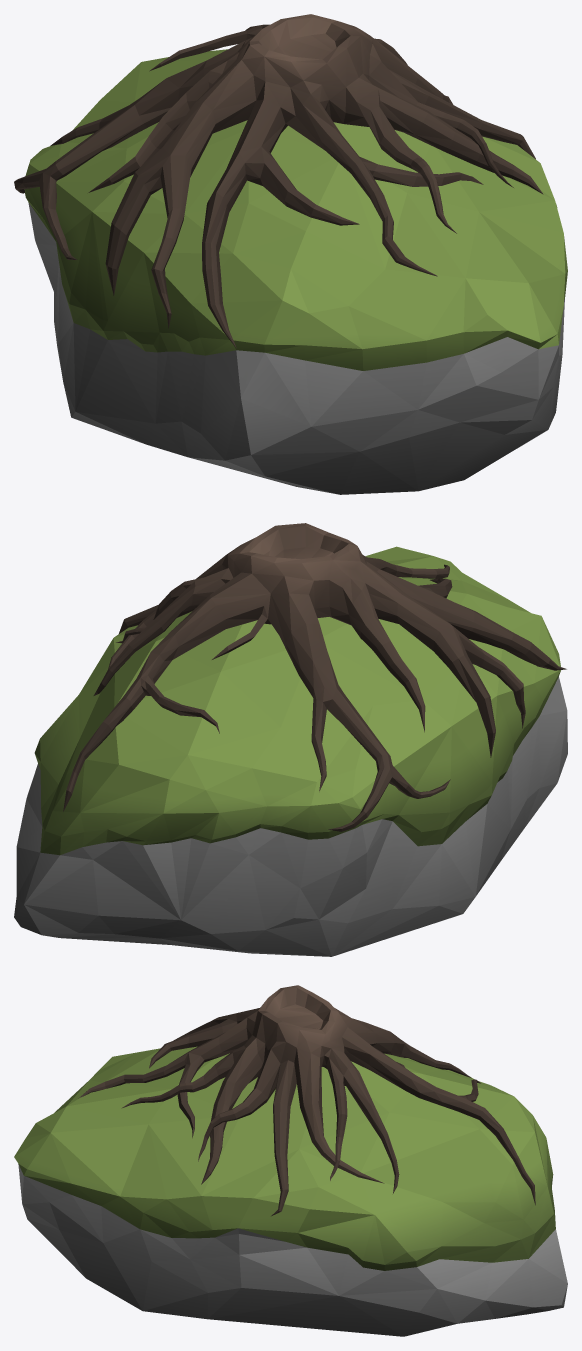
The model's file is Jungle_RootsRock_C.fbx.
3 views of the same model, one above another, from view 1: azimuth 30°, elevation 25°; view 2: azimuth 150°, elevation 25°; view 3: azimuth 270°, elevation 25° (orthographic). The views are drawn at different scales.
Parts seen in each view (by area): view 1: Jungle_RootsRock_C; view 2: Jungle_RootsRock_C; view 3: Jungle_RootsRock_C.
Part boxes in pixels (x1,y1,x2,y2): Jungle_RootsRock_C: (14, 14, 567, 494); Jungle_RootsRock_C: (14, 523, 567, 956); Jungle_RootsRock_C: (14, 985, 567, 1336).
Bounding box in the file's own units: 6.36 × 5.18 × 9.42.
